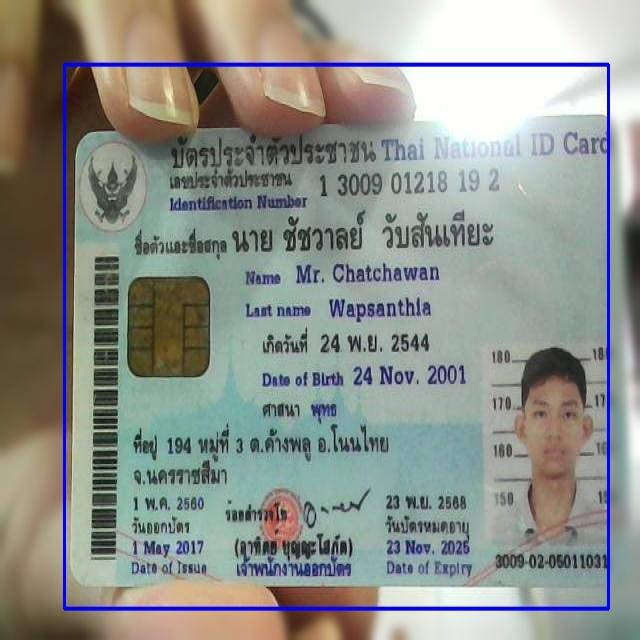Address_th: (128, 421, 399, 495)
Date_of_Birth: (350, 359, 470, 392)
Date_of_Expiry: (382, 536, 476, 560)
Date_of_Issue: (129, 535, 210, 560)
First_Name: (293, 257, 442, 288)
ID_Number: (317, 164, 505, 202)
Image: (482, 342, 617, 549)
Last_Name: (324, 292, 436, 326)
Thai_Name: (230, 205, 501, 255)
